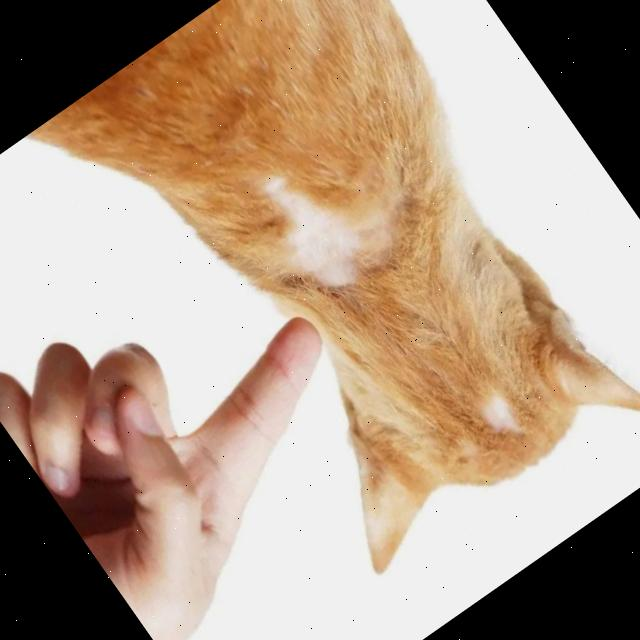cat-hairloss: (280, 200, 380, 301), (474, 384, 529, 444)
